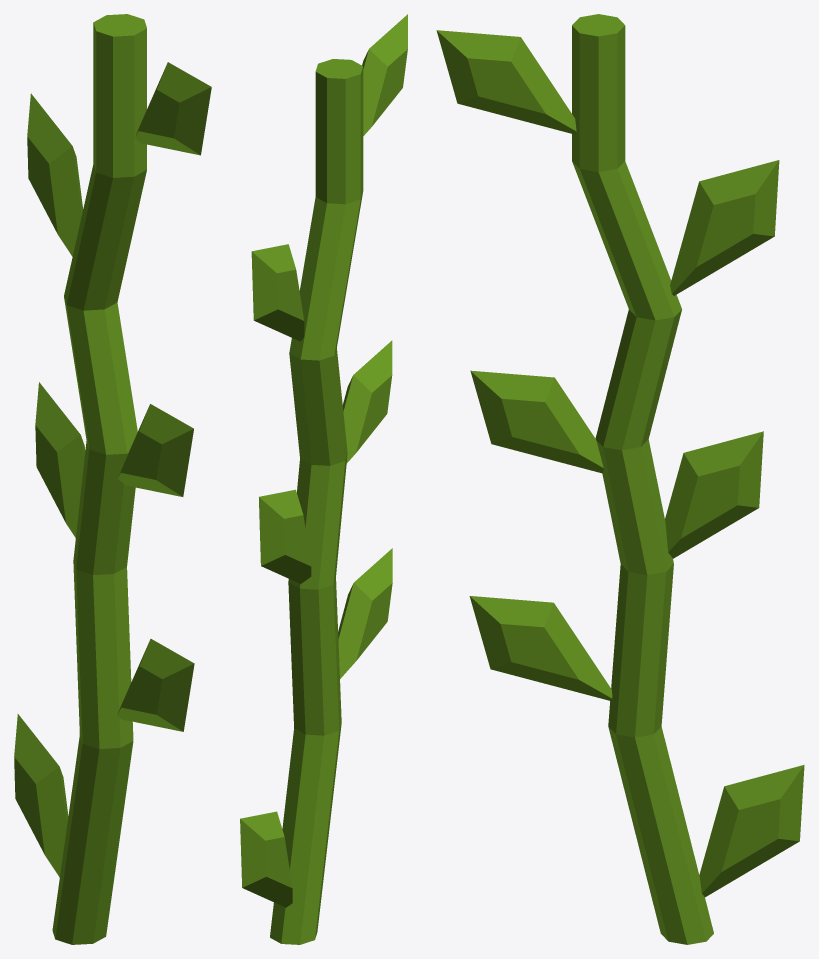
Rendered from SeaWeed.fbx.
The picture shows the model from 3 angles, left to right: view 1: azimuth 30°, elevation 25°; view 2: azimuth 150°, elevation 25°; view 3: azimuth 270°, elevation 25°; orthographic projection. The views are drawn at different scales.
Parts seen in each view (by area): view 1: Cylinder; view 2: Cylinder; view 3: Cylinder.
Boxes of the visible parts, left/top/right/bottom form: Cylinder: left=14, top=14, right=211, bottom=944; Cylinder: left=240, top=14, right=407, bottom=944; Cylinder: left=436, top=14, right=804, bottom=944.
Bounding box in the file's own units: 22.19 × 375 × 138.
